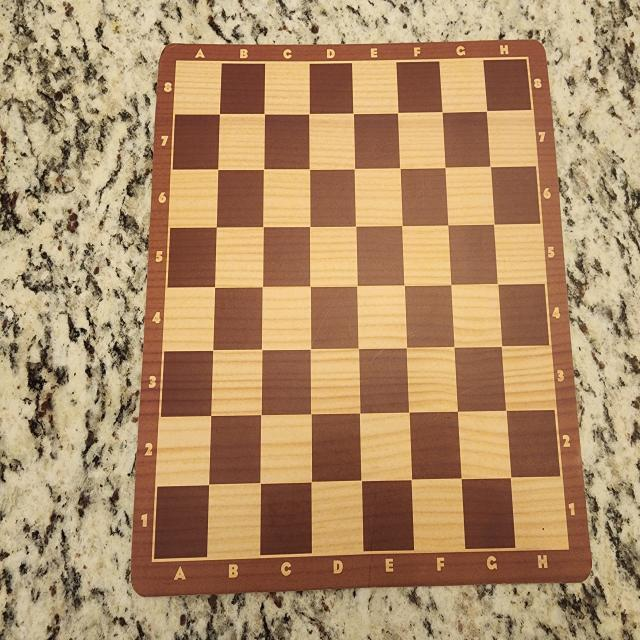Bottom-Left: (151, 485, 209, 562)
Bottom-Right: (511, 478, 570, 549)
Top-Left: (176, 60, 219, 116)
Top-Right: (488, 58, 528, 111)
